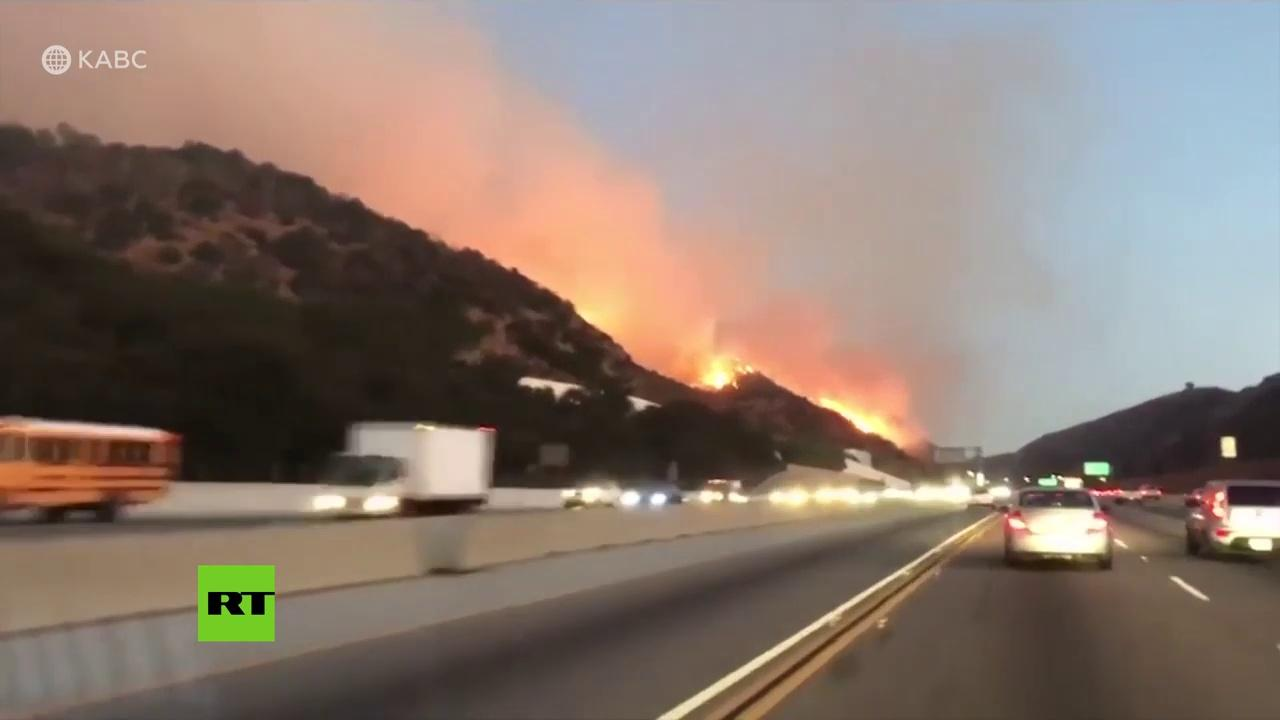Fire: (815, 399, 911, 451), (701, 346, 761, 396)
